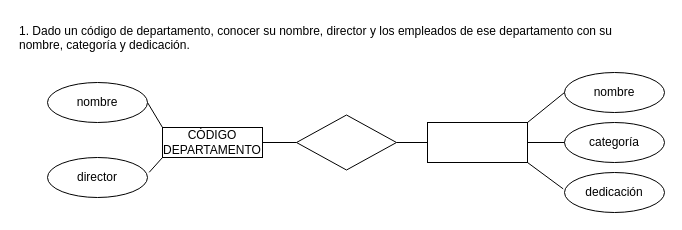
Image size: 682x230. Some labels were removed from this diagram. Here are the shapes that lost their labels. From the top down, the box of each, then its label:
(296, 114, 396, 170): pertenece a 1:N
(426, 122, 528, 162): EMPLEADOS
